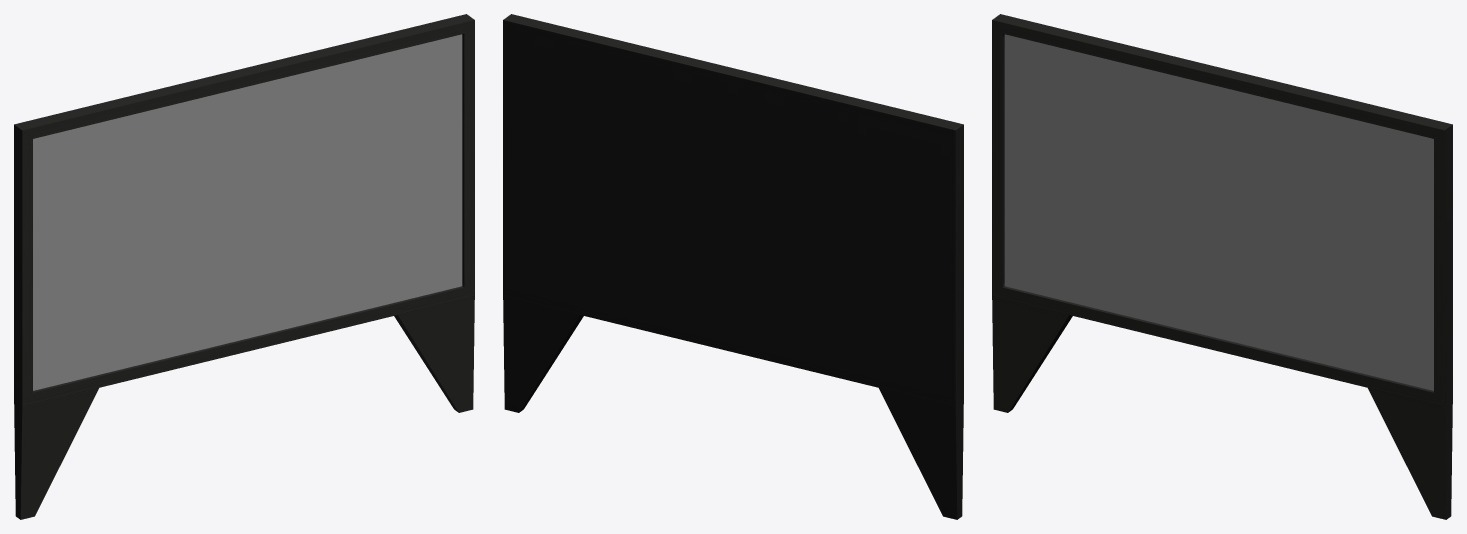
Rendered from thumbnail_001.fbx.
The picture shows the model from 3 angles, left to right: view 1: azimuth 30°, elevation 25°; view 2: azimuth 150°, elevation 25°; view 3: azimuth 330°, elevation 25°; orthographic projection.
Visible parts, largest first — view 1: thumbnail_001a, thumbnail_001; view 2: thumbnail_001; view 3: thumbnail_001a, thumbnail_001.
Boxes of the visible parts, bbox=[...] form: thumbnail_001a: bbox=[33, 34, 462, 390]; thumbnail_001: bbox=[14, 14, 474, 519]; thumbnail_001: bbox=[503, 14, 963, 519]; thumbnail_001a: bbox=[1004, 34, 1433, 390]; thumbnail_001: bbox=[992, 14, 1452, 519].
Bounding box in the file's own units: 255 × 8 × 210.
